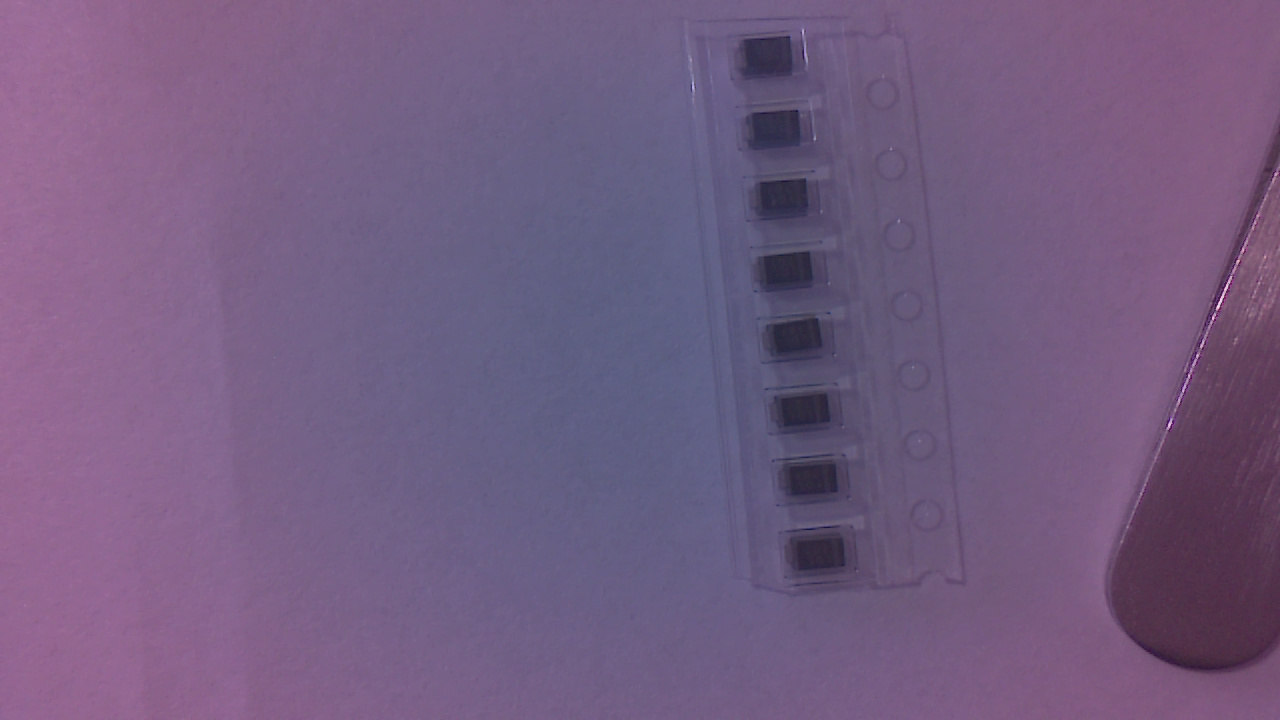Diode: (789, 535, 860, 580), (744, 111, 813, 156), (735, 40, 807, 83), (772, 392, 845, 434), (780, 462, 850, 504), (753, 182, 822, 222), (757, 254, 824, 295), (766, 322, 834, 361)
